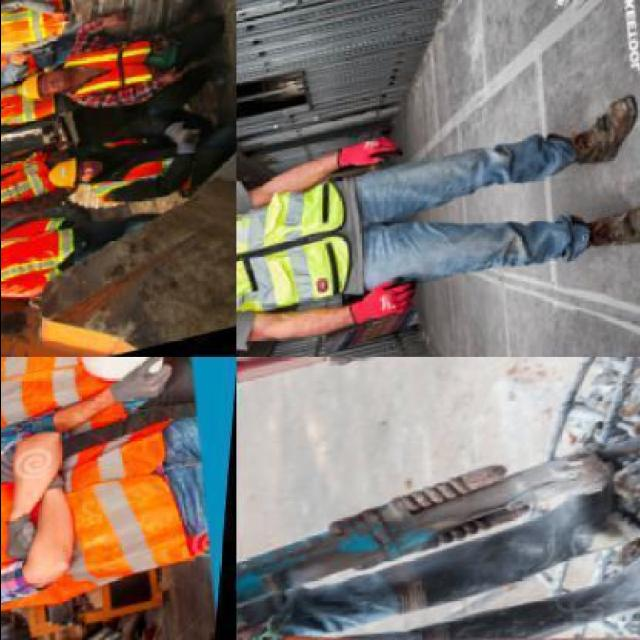helmet: (49, 142, 77, 200), (12, 70, 40, 103)
